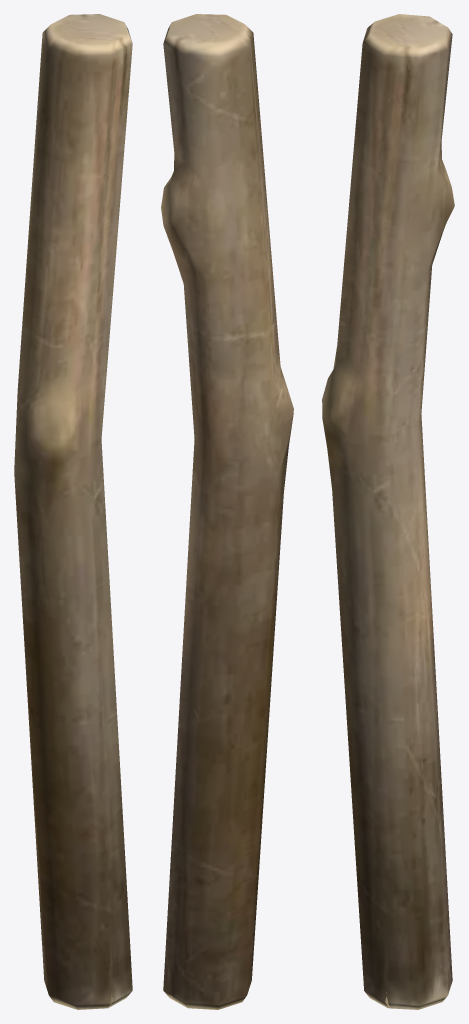
The picture shows the model from 3 angles, left to right: view 1: azimuth 30°, elevation 25°; view 2: azimuth 150°, elevation 25°; view 3: azimuth 330°, elevation 25°; orthographic projection.
Parts seen in each view (by area): view 1: SM_Garou_Set_SM_Spike_03_01_LOD0; view 2: SM_Garou_Set_SM_Spike_03_01_LOD0; view 3: SM_Garou_Set_SM_Spike_03_01_LOD0.
Part boxes in pixels (box(x1,y1,x2,y2)): SM_Garou_Set_SM_Spike_03_01_LOD0: box(14, 14, 132, 1009); SM_Garou_Set_SM_Spike_03_01_LOD0: box(161, 14, 293, 1009); SM_Garou_Set_SM_Spike_03_01_LOD0: box(322, 14, 454, 1009).
Bounding box in the file's own units: 0.1481 × 1.22 × 0.1208.
Materials: 1 (1 with a texture image).
